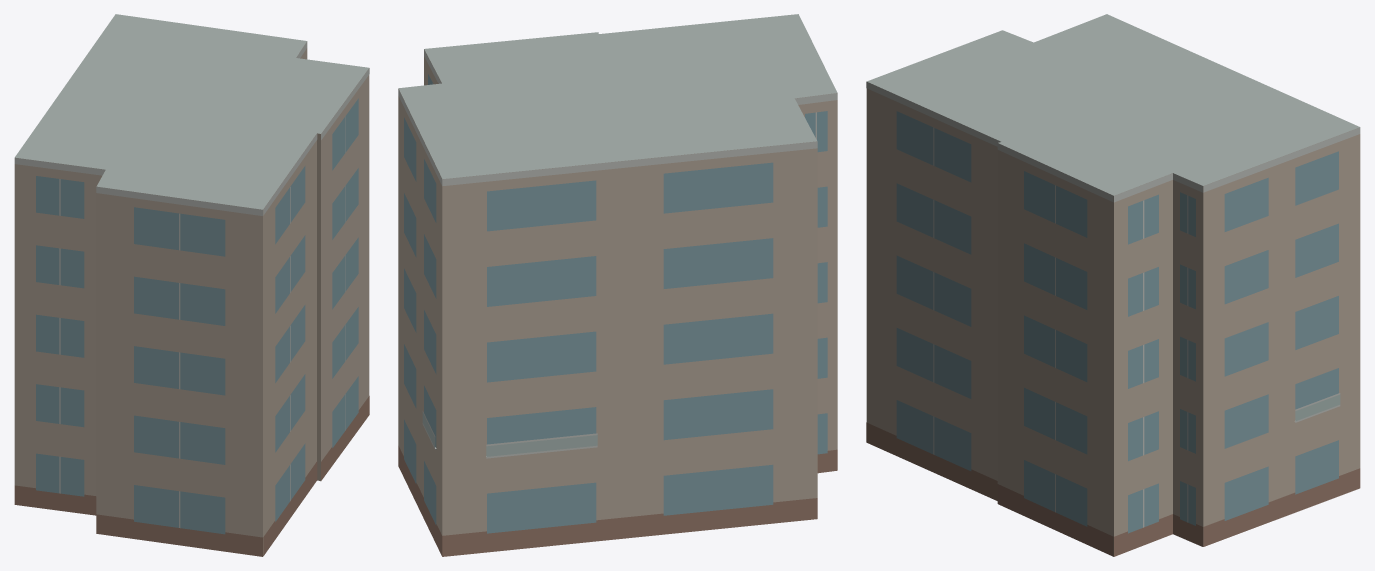
File: survey-upis-32773038.glb
The picture shows the model from 3 angles, left to right: view 1: azimuth 30°, elevation 25°; view 2: azimuth 150°, elevation 25°; view 3: azimuth 270°, elevation 25°; orthographic projection. The views are drawn at different scales.
Parts seen in each view (by area): view 1: survey-upis-32773038.tmp; view 2: survey-upis-32773038.tmp; view 3: survey-upis-32773038.tmp.
Boxes of the visible parts, x1,y1,x2,y2 form: survey-upis-32773038.tmp: [14, 14, 369, 556]; survey-upis-32773038.tmp: [398, 14, 837, 556]; survey-upis-32773038.tmp: [866, 14, 1360, 556].
Bounding box in the file's own units: 14.16 × 13.1 × 16.24.
